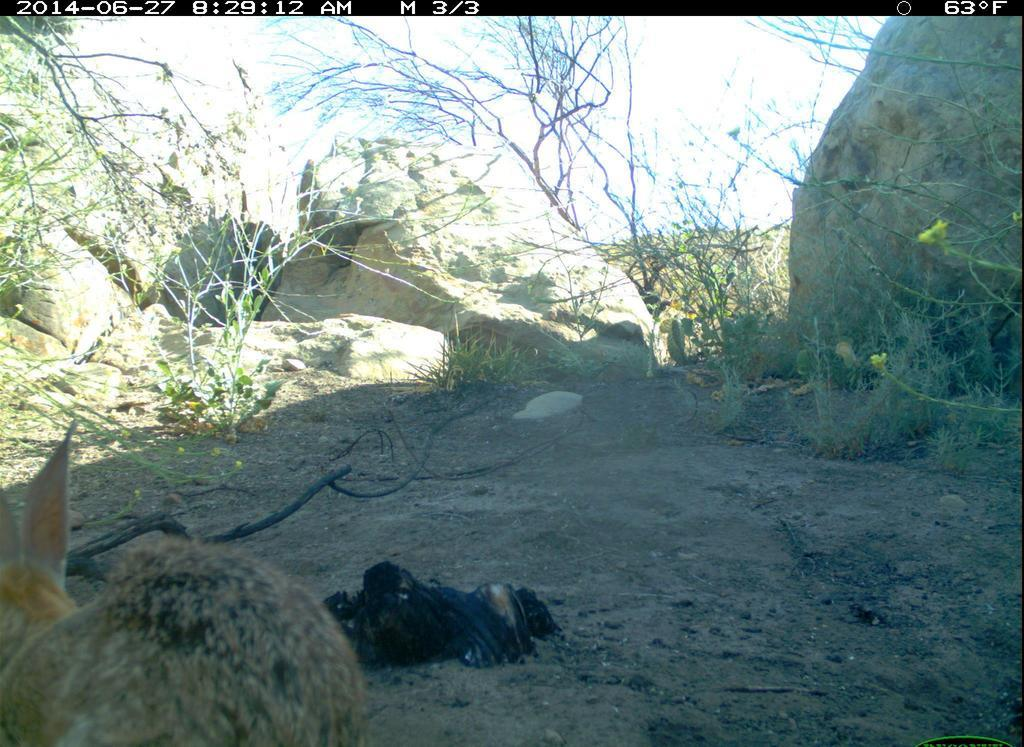rabbit: (4, 392, 400, 747)
